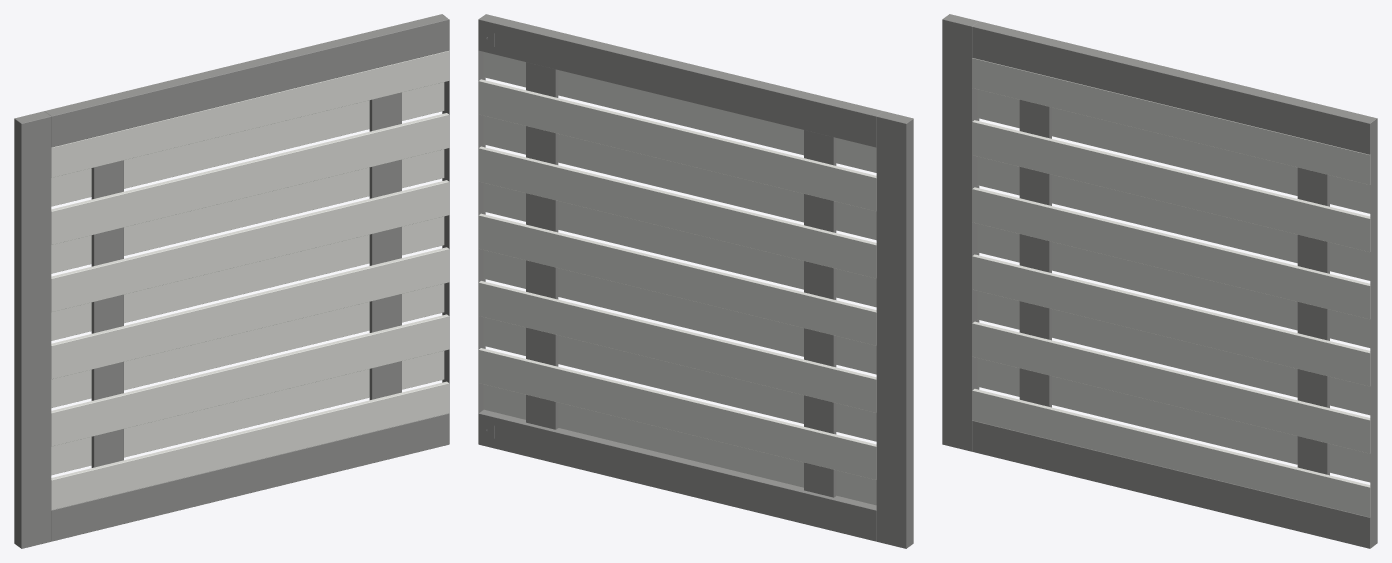
File: FENCE1.fbx
3 renders of one model, left to right at view 1: azimuth 30°, elevation 25°; view 2: azimuth 150°, elevation 25°; view 3: azimuth 330°, elevation 25°, orthographic.
Visible parts, largest first — view 1: A23DOBJ_001; view 2: A23DOBJ_001; view 3: A23DOBJ_001.
Part boxes in pixels (box(x1,y1,x2,y2)): A23DOBJ_001: box(14, 14, 449, 548); A23DOBJ_001: box(478, 14, 913, 548); A23DOBJ_001: box(942, 14, 1377, 548).
Bounding box in the file's own units: 508 × 483 × 16.27.
